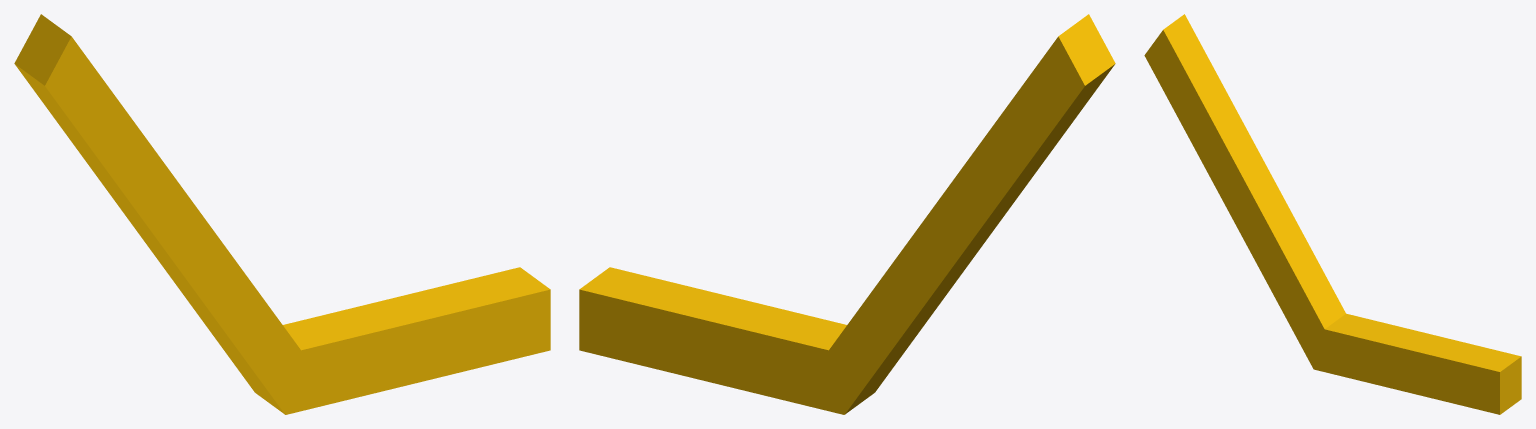
The picture shows the model from 3 angles, left to right: view 1: azimuth 30°, elevation 25°; view 2: azimuth 150°, elevation 25°; view 3: azimuth 330°, elevation 25°; orthographic projection. The views are drawn at different scales.
Parts seen in each view (by area): view 1: tmp_export_Cube.001; view 2: tmp_export_Cube.001; view 3: tmp_export_Cube.001.
Boxes of the visible parts, left/top/right/bottom form: tmp_export_Cube.001: left=14, top=14, right=550, bottom=414; tmp_export_Cube.001: left=579, top=14, right=1115, bottom=414; tmp_export_Cube.001: left=1144, top=14, right=1521, bottom=414.
Size of the model in its own units: 1.91 by 0.2 by 1.56.
